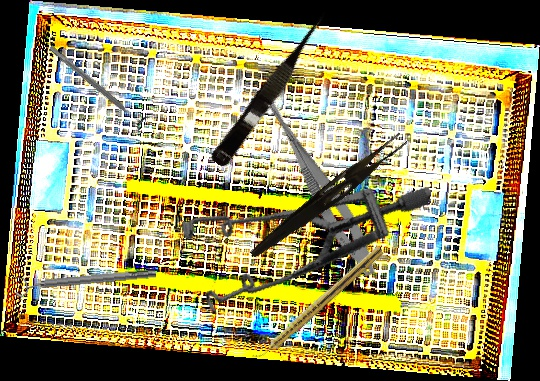Dressing Forceps: (247, 126, 409, 267)
Fixation Ring: (44, 40, 151, 131), (14, 262, 157, 299)
Handpiece: (250, 242, 386, 366)
Micro Scissor: (247, 84, 387, 282), (208, 7, 337, 172)
Speculum: (160, 124, 433, 363)
